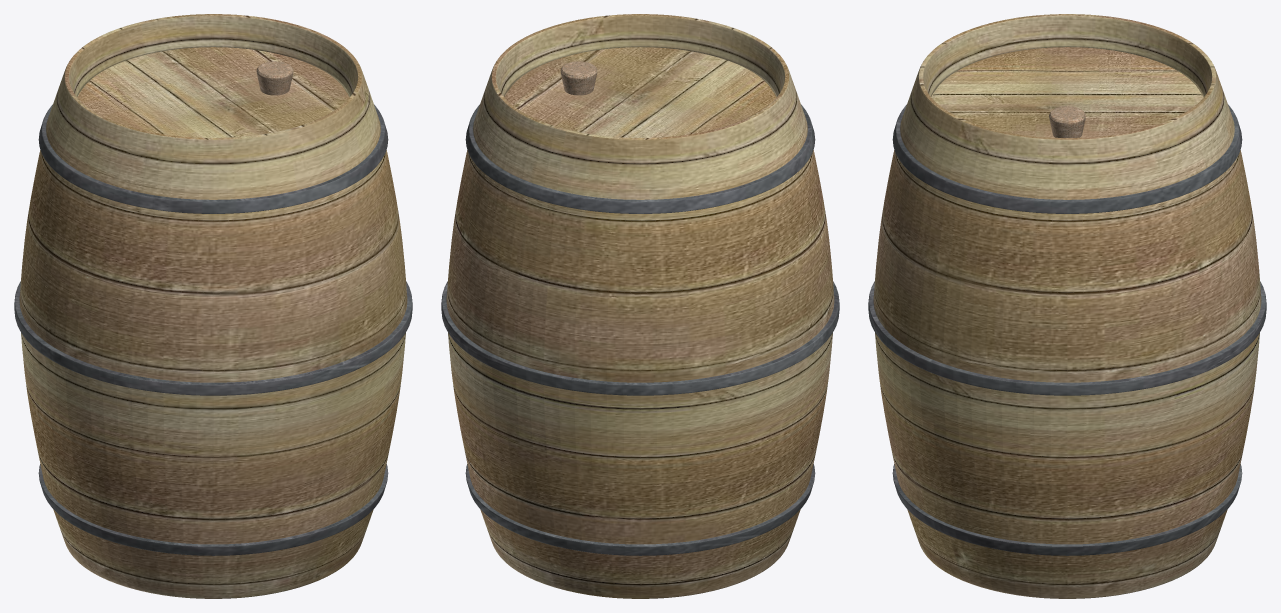
The model's file is Barrel.obj.
3 views of the same model, side by side, from view 1: azimuth 30°, elevation 25°; view 2: azimuth 150°, elevation 25°; view 3: azimuth 270°, elevation 25° (orthographic).
Visible parts, largest first — view 1: Object.1; view 2: Object.1; view 3: Object.1.
Part boxes in pixels (x1,y1,x2,y2): Object.1: (14, 14, 412, 598); Object.1: (441, 14, 839, 598); Object.1: (868, 14, 1266, 598).
Size of the model in its own units: 30.93 by 39.37 by 30.92.
Materials: 3 (3 with a texture image).
